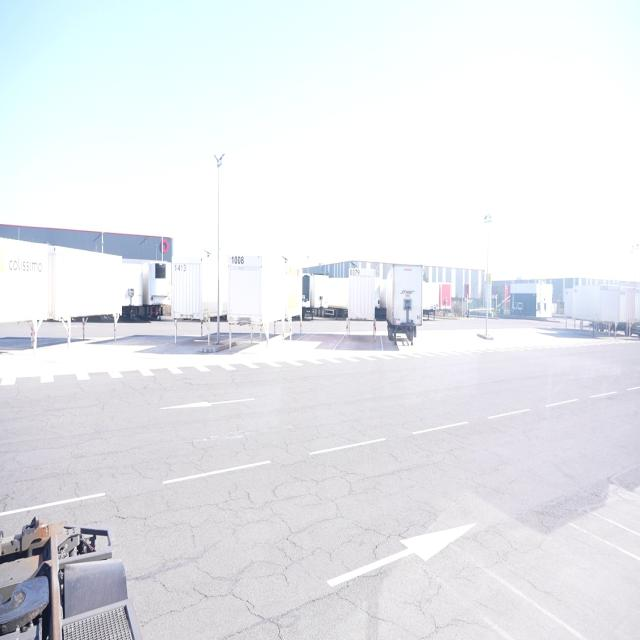Code: (230, 254, 249, 268), (347, 265, 361, 278)
